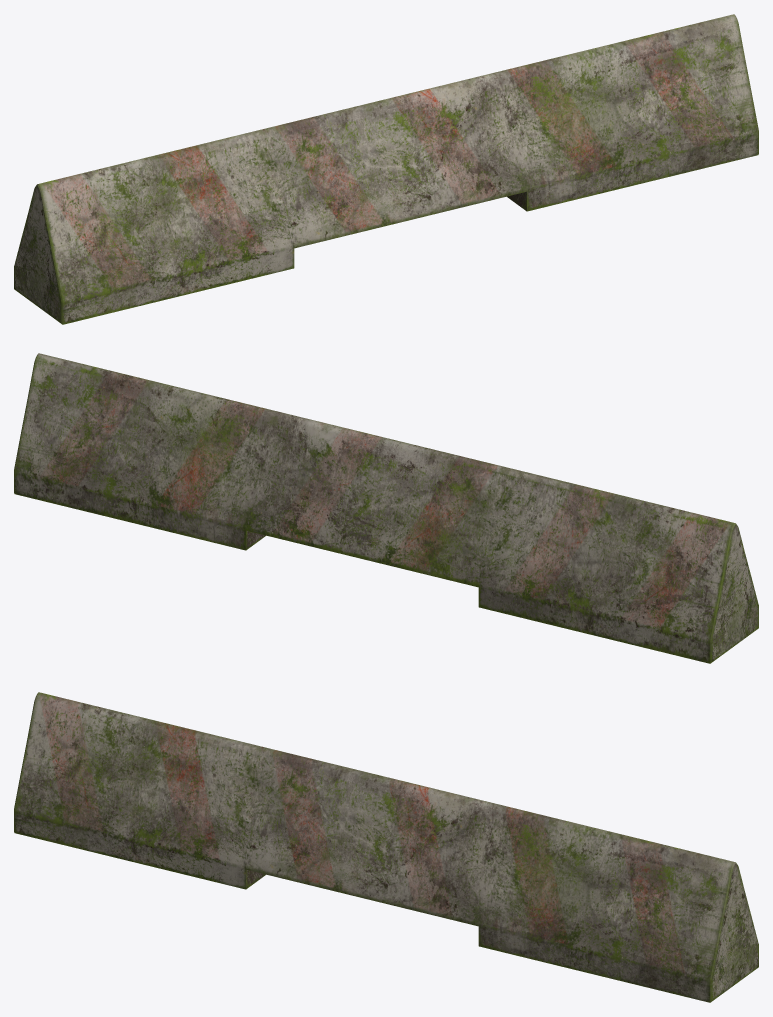
The model's file is RoadBorder_003.fbx.
3 views of the same model, one above another, from view 1: azimuth 30°, elevation 25°; view 2: azimuth 150°, elevation 25°; view 3: azimuth 330°, elevation 25° (orthographic).
Parts seen in each view (by area): view 1: RoadBorder_003; view 2: RoadBorder_003; view 3: RoadBorder_003.
Boxes of the visible parts, x1,y1,x2,y2 form: RoadBorder_003: (14,14,758,324); RoadBorder_003: (14,353,758,663); RoadBorder_003: (14,692,758,1002).
Size of the model in its own units: 250 by 42.21 by 30.
1 material, 1 textured.
